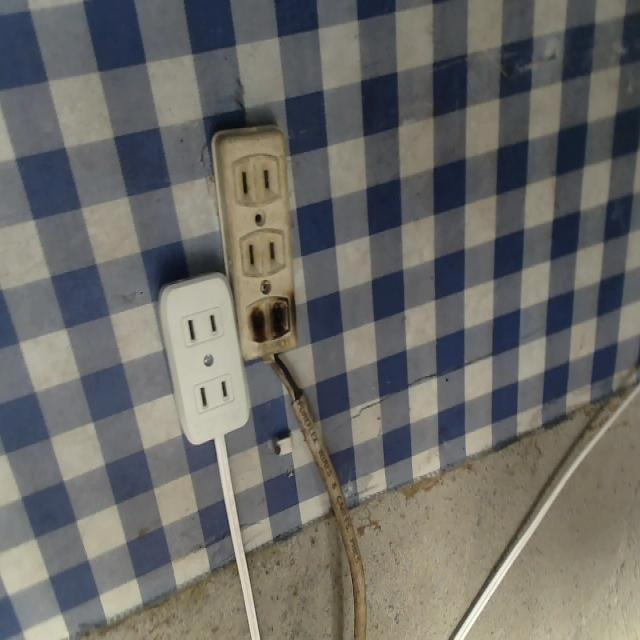-: (244, 293, 299, 351)
